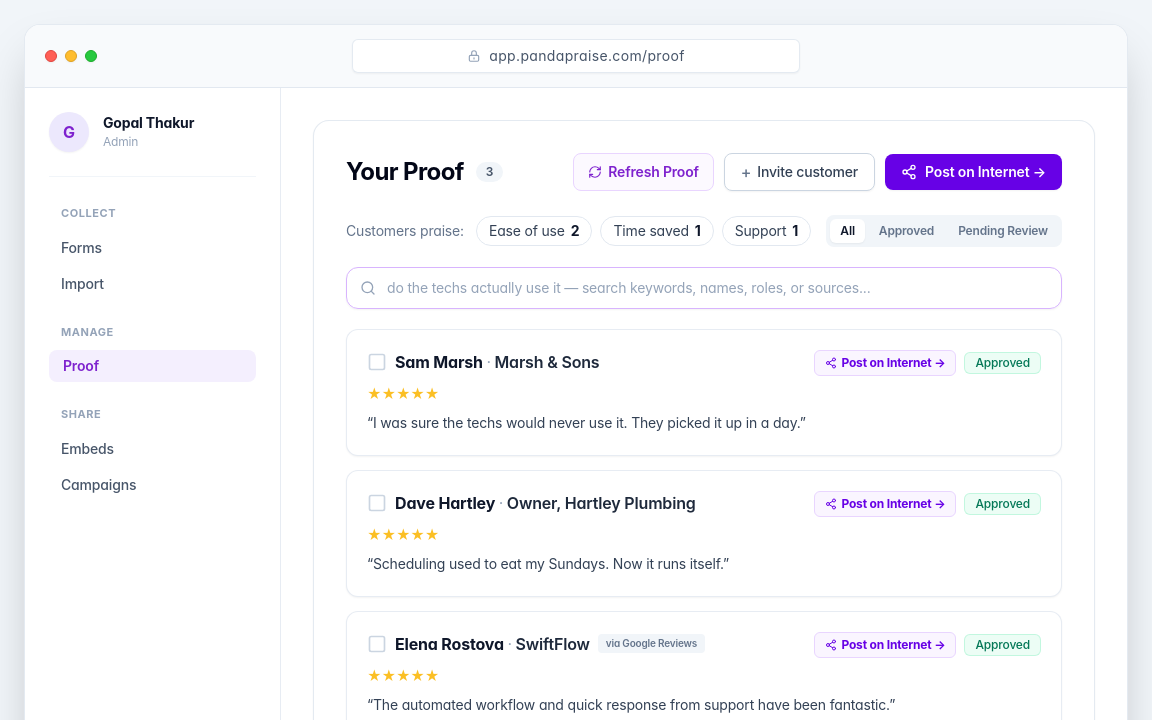
Scenario: AppLayout Stitch Master Layout Suite › 5. Invite Customer button opens modal and displays invite link
Click the button "+ Invite customer" at (799,172), box [724, 153, 875, 191]
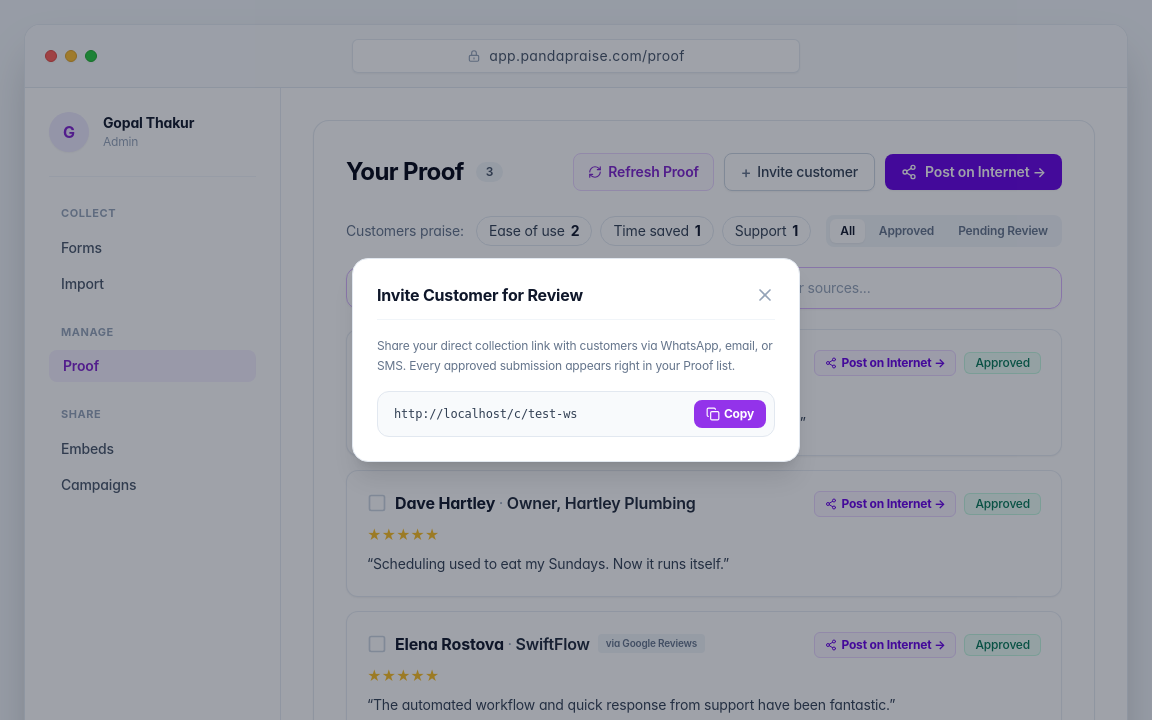
Check: the text "Invite Customer for Review" is shown, box [377, 283, 583, 307]
Check: the button "Copy" is shown, box [694, 400, 766, 428]
